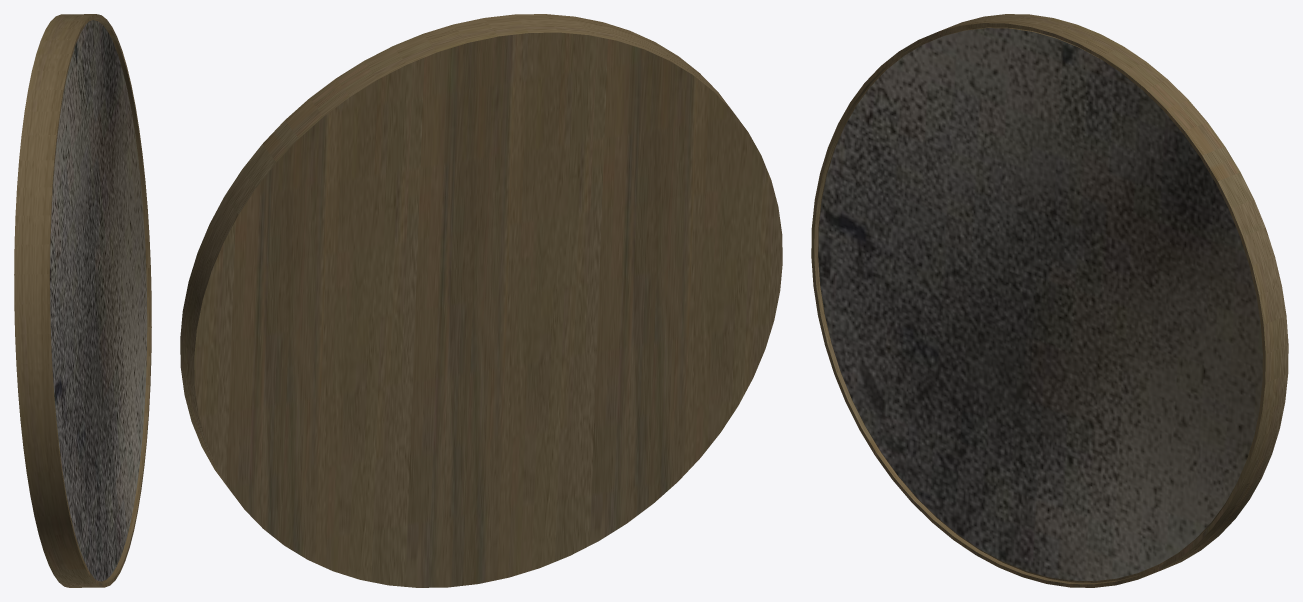
Rendered from New_Bronze_Wall_Mirror-Small.glb.
3 views of the same model, side by side, from view 1: azimuth 30°, elevation 25°; view 2: azimuth 150°, elevation 25°; view 3: azimuth 270°, elevation 25° (orthographic). The views are drawn at different scales.
Visible parts, largest first — view 1: model 10; view 2: model 10; view 3: model 10.
Boxes of the visible parts, x1=… form: model 10: x1=14, y1=14, x2=151, y2=587; model 10: x1=180, y1=14, x2=782, y2=587; model 10: x1=811, y1=14, x2=1288, y2=587.
Size of the model in its own units: 0.3186 by 0.4683 by 0.3824.
Materials: 2 (2 with a texture image).
